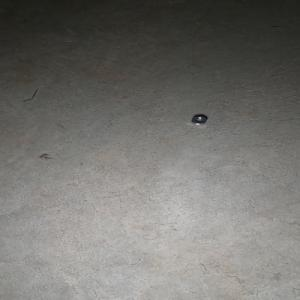Nut: (192, 115, 209, 125)
